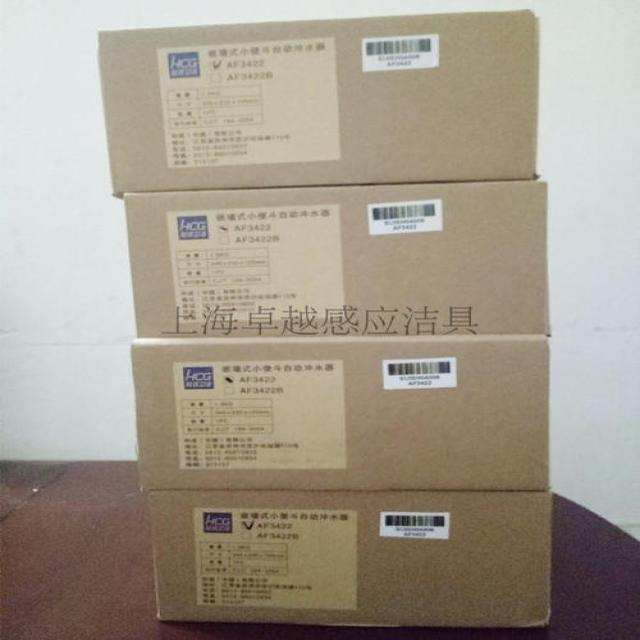box: (96, 10, 542, 201), (122, 178, 552, 338), (132, 336, 551, 490), (147, 489, 551, 626)
